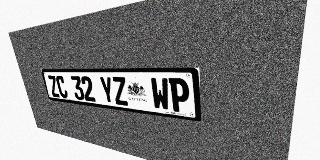2: (80, 76, 96, 102)
3: (70, 76, 85, 100)
C: (55, 75, 69, 98)
P: (168, 78, 190, 113)
W: (150, 77, 170, 111)
Y: (99, 76, 115, 104)
Z: (111, 77, 129, 106), (47, 75, 60, 97)
